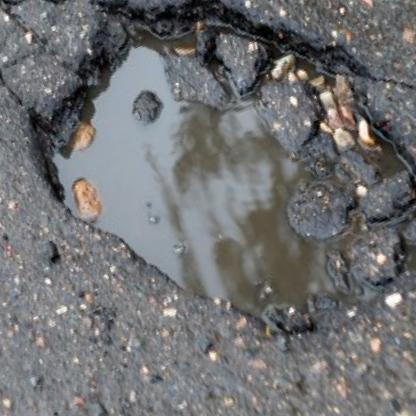pothole: (0, 0, 416, 407)
